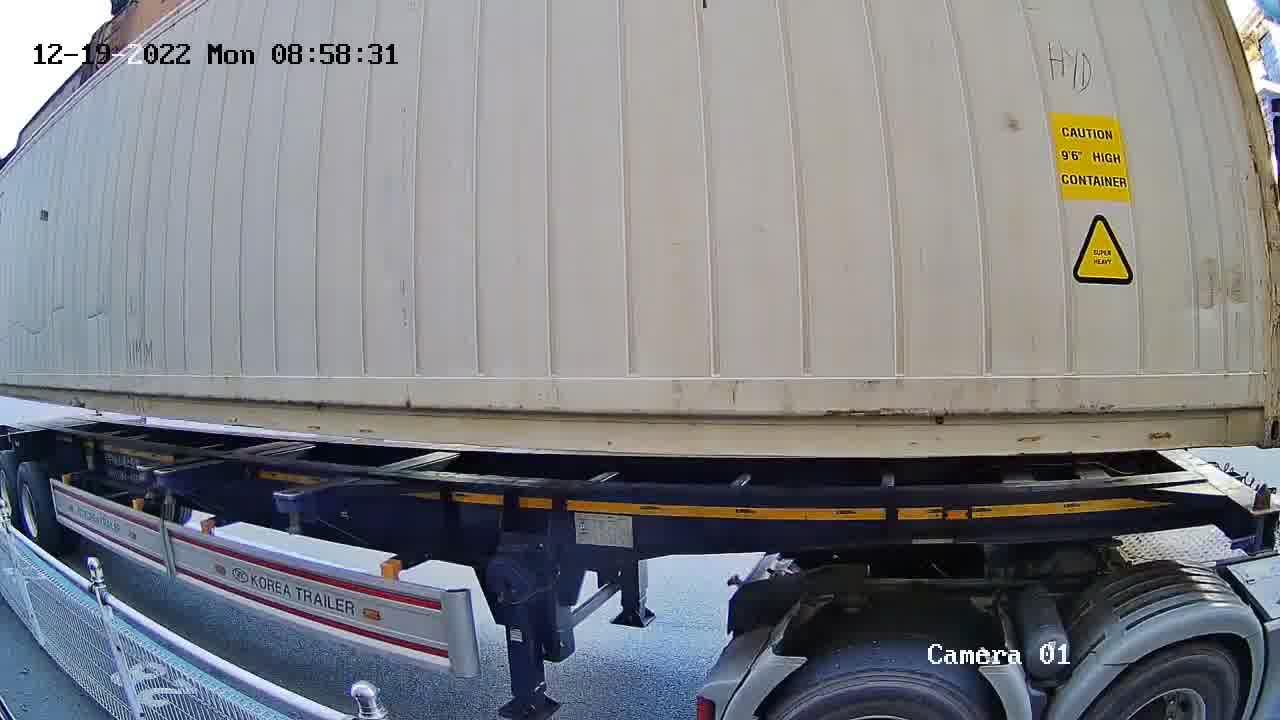Chassis: (1149, 451, 1279, 551)
Cone: (1240, 484, 1275, 553)
Hole_R: (1232, 382, 1279, 447)
Tire: (772, 662, 983, 715), (1095, 652, 1241, 712)
